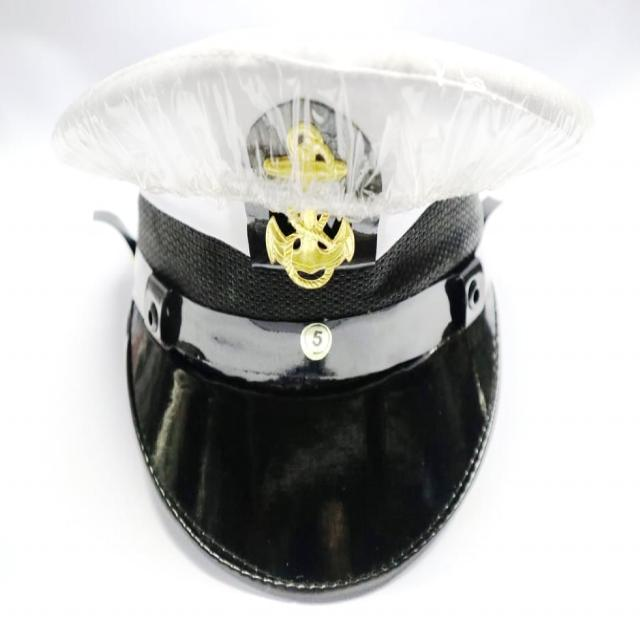mask: (44, 41, 592, 625)
